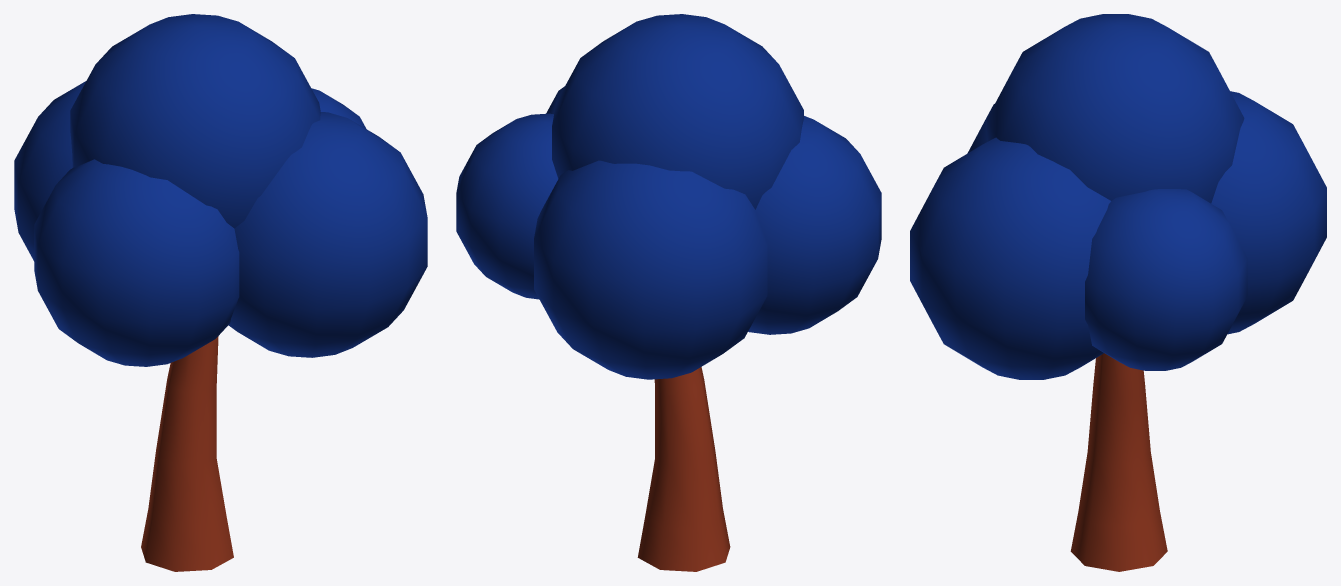
The model's file is Tree_02.FBX.
3 renders of one model, left to right at view 1: azimuth 30°, elevation 25°; view 2: azimuth 150°, elevation 25°; view 3: azimuth 270°, elevation 25°, orthographic.
Parts seen in each view (by area): view 1: Line002; view 2: Line002; view 3: Line002.
Boxes of the visible parts, x1,y1,x2,y2 form: Line002: (14,14,427,571); Line002: (456,14,881,571); Line002: (910,14,1326,571).
Bounding box in the file's own units: 610 × 857 × 611.
